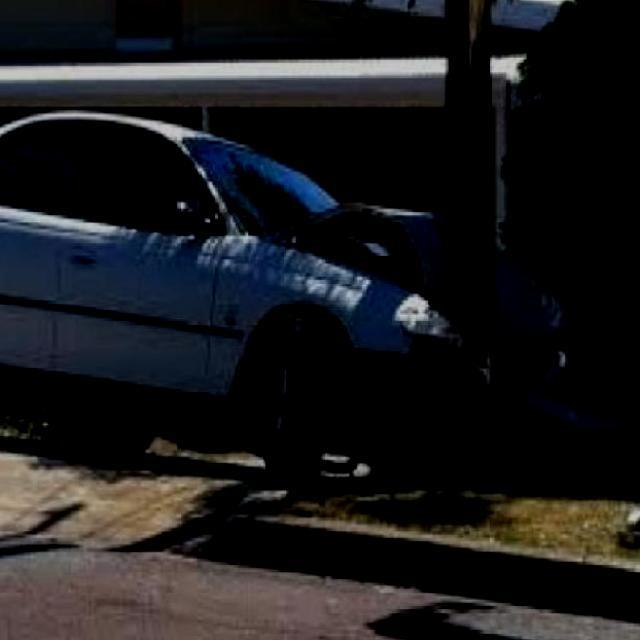accident: (0, 98, 580, 481)
